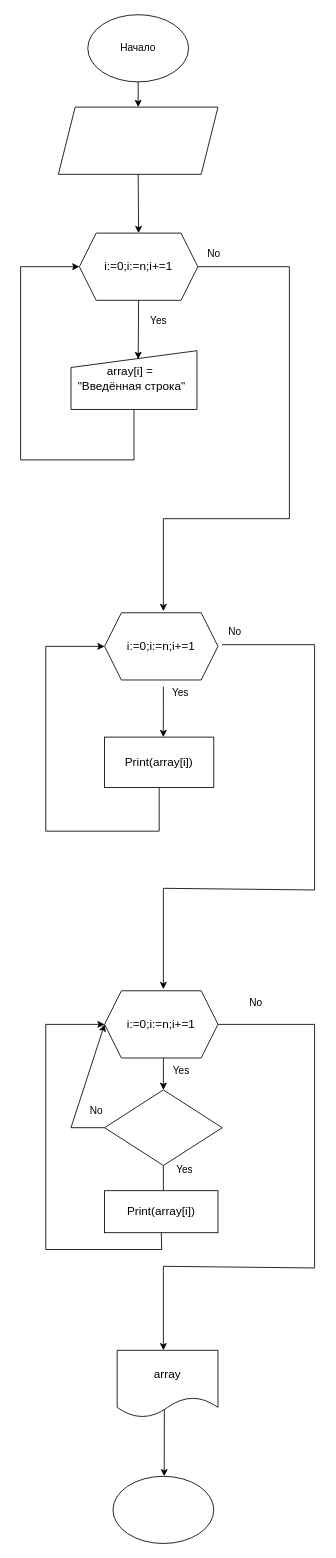
Some shapes in this 336 by 1558 pixel diagram are drawn without their labels. The centre of each missing label's shape, as x and y in pixels:
array[i].Length<=3: point (163, 1127)
n ="Количество элементов массива" array = [n] - "Выделяем память под массив": point (138, 140)
Конец: point (163, 1509)
